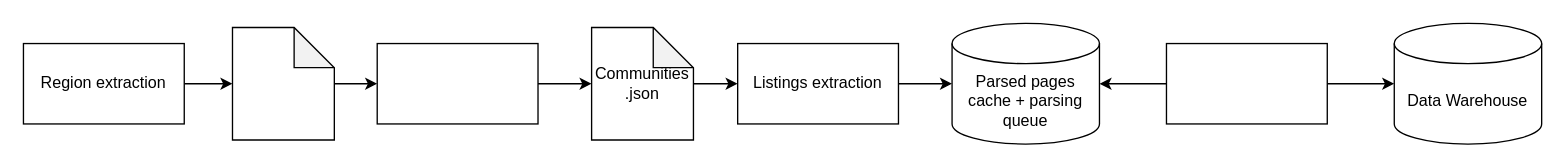
Image size: 1565x168. Some labels were removed from this diagram. The centre of each missing label's shape, as x and y in pixels:
"Communities extraction" belongs at point 457,83.
"Regions.json" belongs at point 282,83.
"Transform listing (generate static title/snippet/...)" belongs at point 1246,83.
